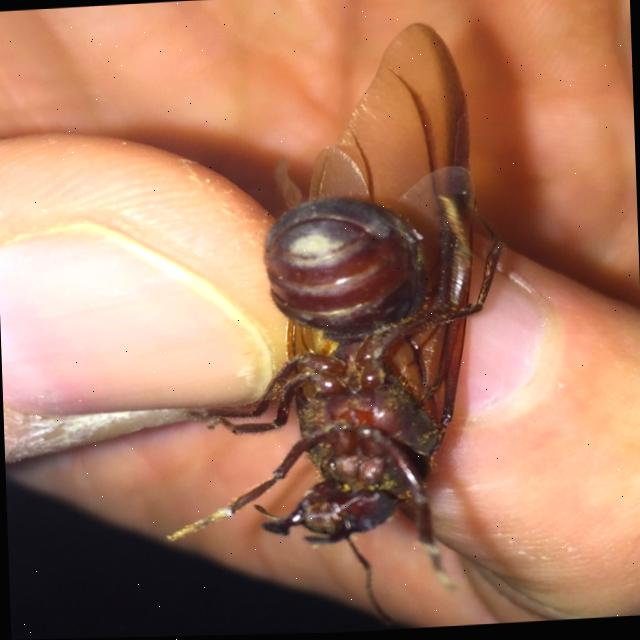Alive-Female-Alate: (146, 19, 520, 572)
